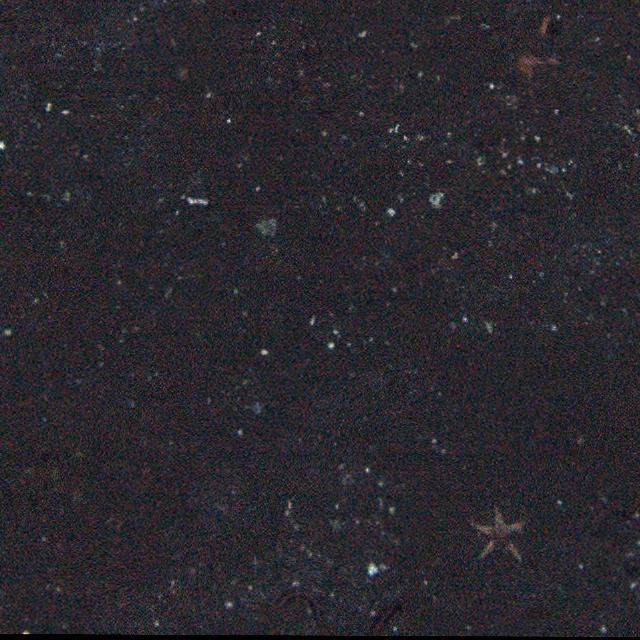eel: (255, 580, 408, 636)
